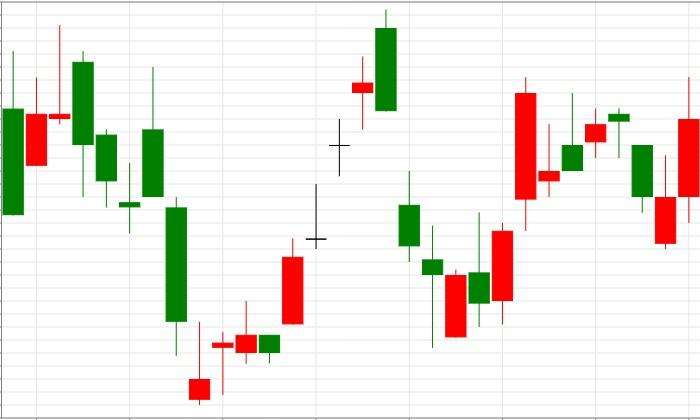inverse_hammer_rise: (71, 51, 211, 405)
three_black_crows_fall: (188, 10, 444, 404)
